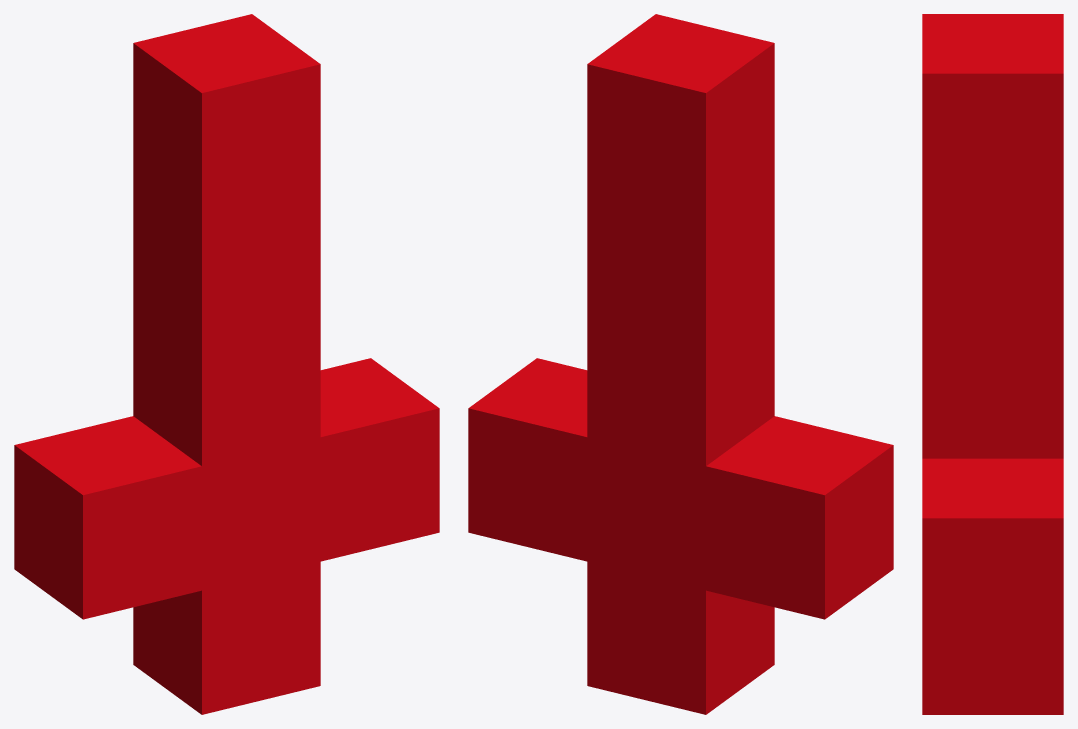
Rendered from idol.glb.
3 views of the same model, side by side, from view 1: azimuth 30°, elevation 25°; view 2: azimuth 150°, elevation 25°; view 3: azimuth 270°, elevation 25° (orthographic). The views are drawn at different scales.
Visible parts, largest first — view 1: Cube.002; view 2: Cube.002; view 3: Cube.002.
Part boxes in pixels (left/top/right/bottom): Cube.002: left=14, top=14, right=439, bottom=714; Cube.002: left=468, top=14, right=893, bottom=714; Cube.002: left=922, top=14, right=1063, bottom=714.
Size of the model in its own units: 0.1766 by 0.2944 by 0.0589.
